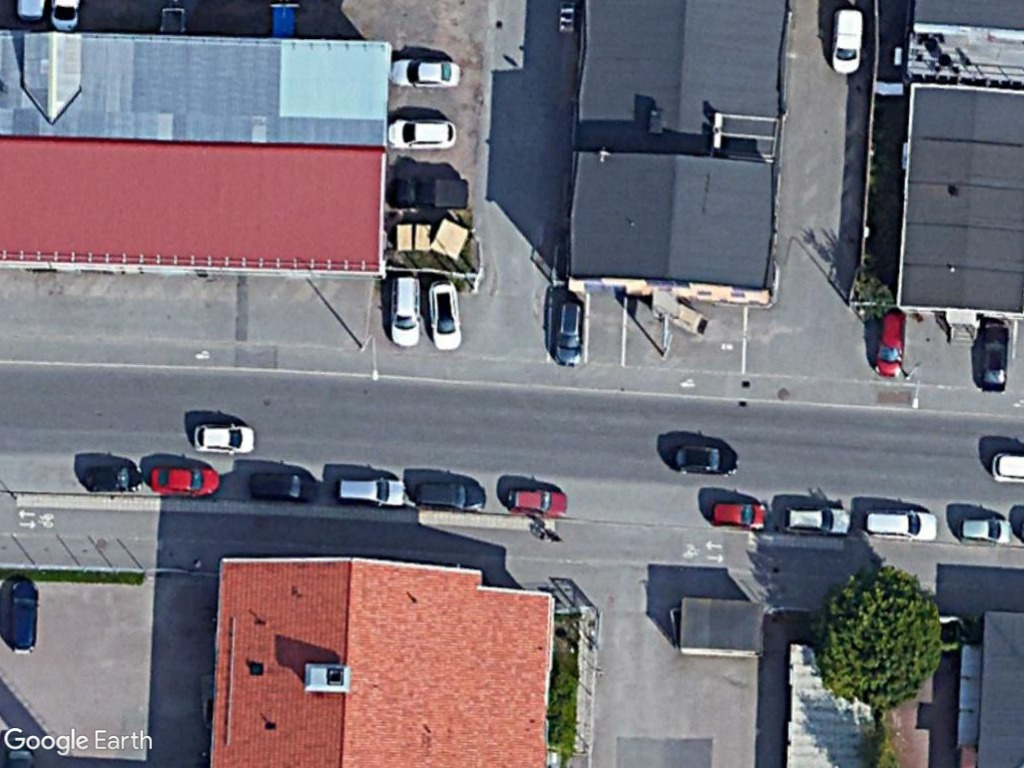car: (666, 438, 744, 480), (860, 506, 942, 544), (973, 321, 1015, 394), (331, 472, 409, 511), (410, 477, 490, 515), (425, 277, 465, 352), (777, 501, 855, 539), (246, 466, 320, 506), (147, 463, 222, 501), (553, 294, 589, 371), (502, 482, 572, 521), (79, 460, 150, 498), (390, 55, 466, 90), (389, 273, 424, 349), (871, 310, 909, 379), (385, 118, 459, 152), (191, 421, 261, 456), (707, 497, 771, 533), (955, 514, 1014, 550)
van: (826, 5, 868, 77)
